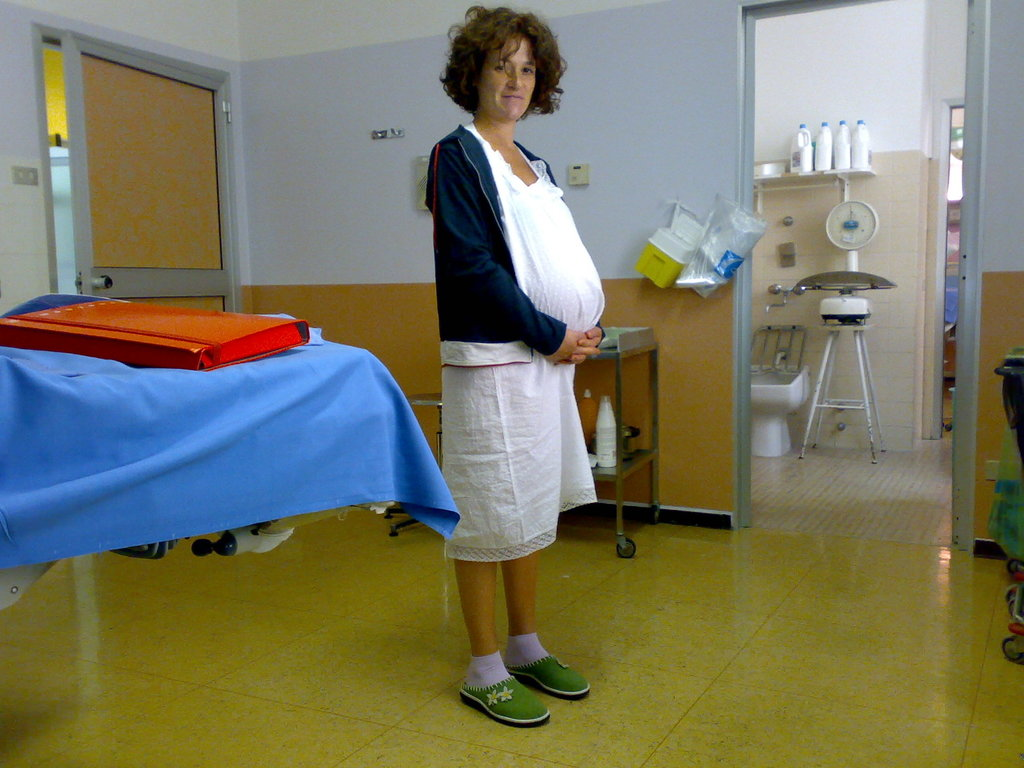Person: (423, 5, 605, 727)
